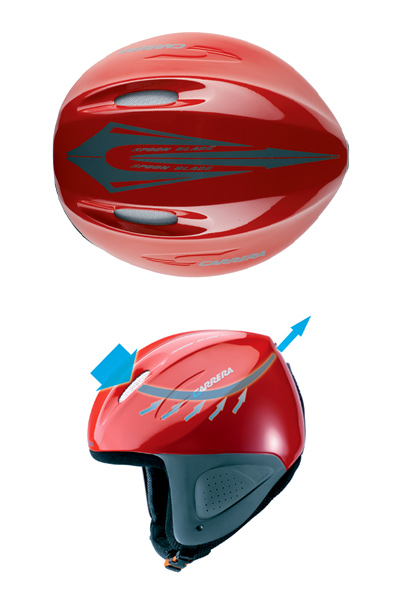helmet: (52, 49, 352, 268), (90, 329, 310, 541)
